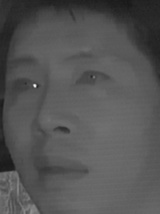eye: (75, 67, 116, 92), (7, 75, 43, 96)
mouth: (30, 152, 91, 188)
